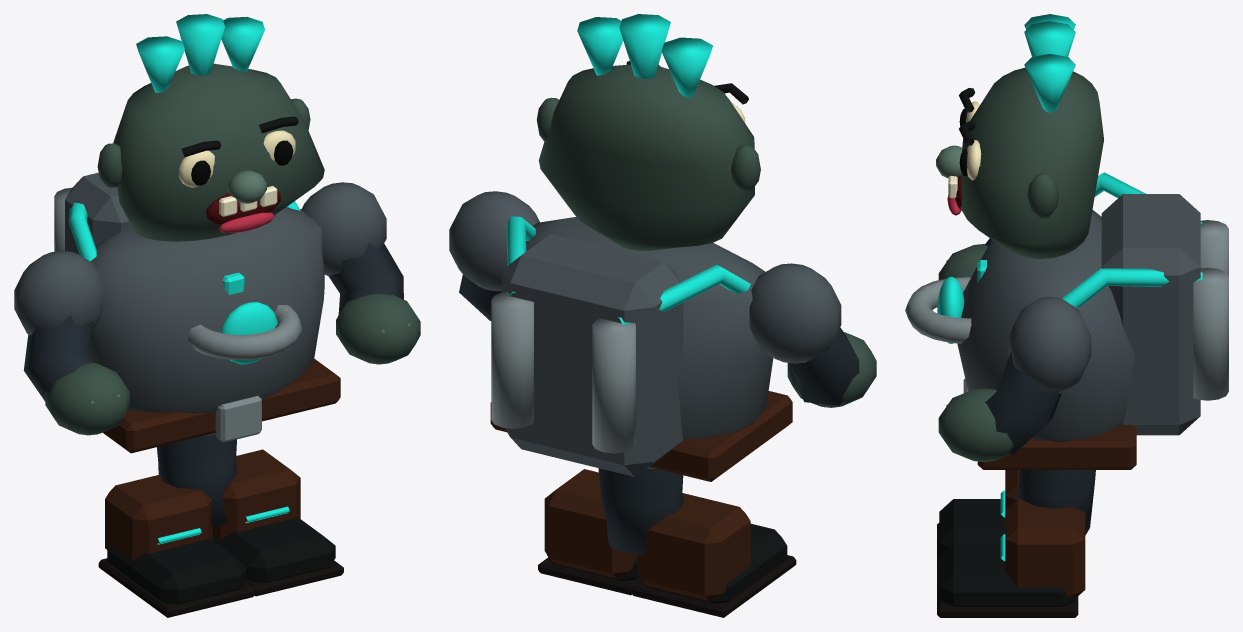
File: overlord.glb
3 renders of one model, left to right at view 1: azimuth 30°, elevation 25°; view 2: azimuth 150°, elevation 25°; view 3: azimuth 270°, elevation 25°, orthographic. The views are drawn at different scales.
Parts seen in each view (by area): view 1: Body, Head, Arms, LegL, LegR; view 2: Body, Head, LegL, Arms, LegR; view 3: Body, Head, LegR, Arms, LegL.
Boxes of the visible parts, <box> form: Body: <box>54,172,340,453</box>; Head: <box>97,14,324,241</box>; Arms: <box>14,182,420,435</box>; LegL: <box>98,434,255,617</box>; LegR: <box>178,435,343,596</box>; Body: <box>490,216,792,481</box>; Head: <box>536,14,760,250</box>; LegL: <box>598,468,796,617</box>; Arms: <box>449,191,876,407</box>; LegR: <box>538,469,640,595</box>; Body: <box>905,172,1228,469</box>; Head: <box>936,14,1103,258</box>; LegR: <box>937,470,1094,617</box>; Arms: <box>938,238,1091,461</box>; LegL: <box>937,470,1095,567</box>.
Bounding box in the file's own units: 0.929 × 1.27 × 0.688.
Materials: 1 (1 with a texture image).
